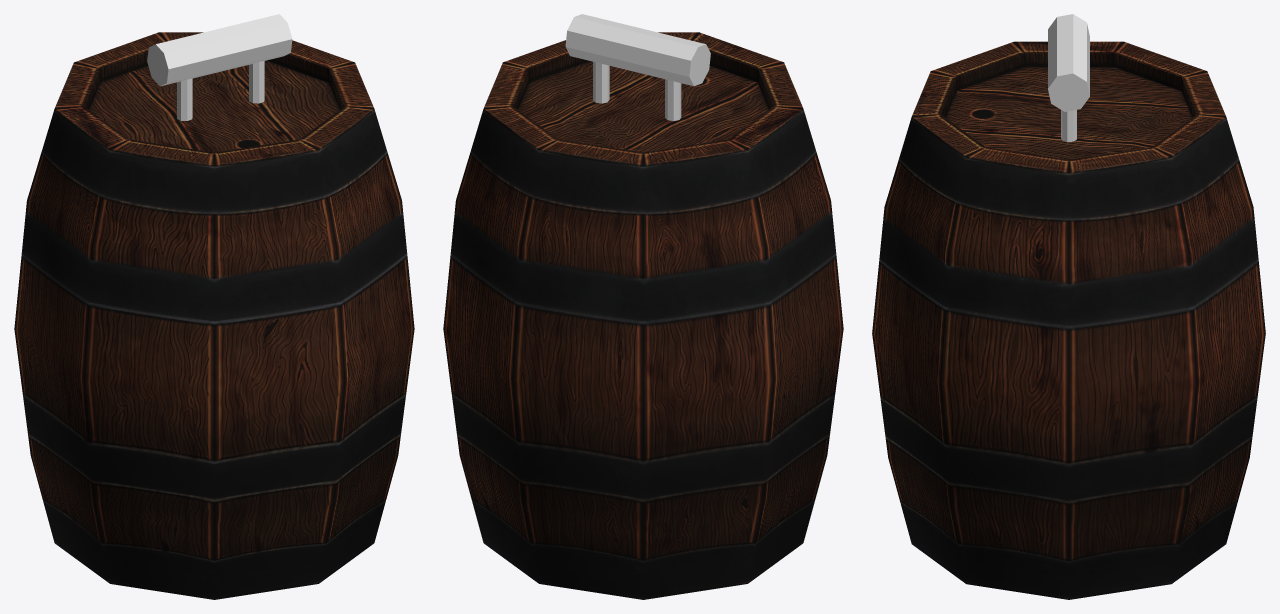
File: Barrell_with_handle.fbx
3 renders of one model, left to right at view 1: azimuth 30°, elevation 25°; view 2: azimuth 150°, elevation 25°; view 3: azimuth 270°, elevation 25°, orthographic.
Visible parts, largest first — view 1: Barrel, Cylinder, Cylinder.001, Cylinder.002; view 2: Barrel, Cylinder, Cylinder.001, Cylinder.002; view 3: Barrel, Cylinder.
Boxes of the visible parts, x1,y1,x2,y2 form: Barrel: (14,32,414,599); Cylinder: (147,14,292,86); Cylinder.001: (249,61,264,103); Cylinder.002: (177,78,192,120); Barrel: (443,32,843,599); Cylinder: (565,14,710,86); Cylinder.001: (593,61,609,103); Cylinder.002: (665,79,681,120); Barrel: (872,41,1265,599); Cylinder: (1048,14,1089,111).
Size of the model in its own units: 86.58 by 121 by 87.92.
